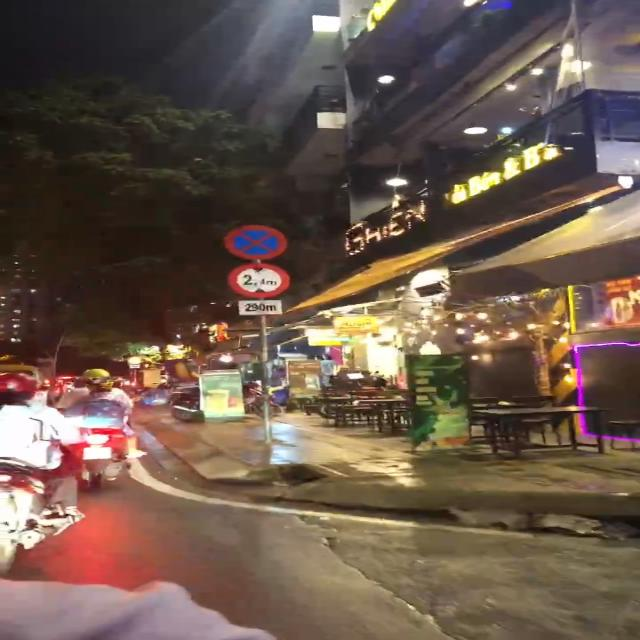Bien bao cam dung xe va do xe: (220, 220, 292, 259)
Bien bao han che chieu cao: (224, 261, 293, 298)
